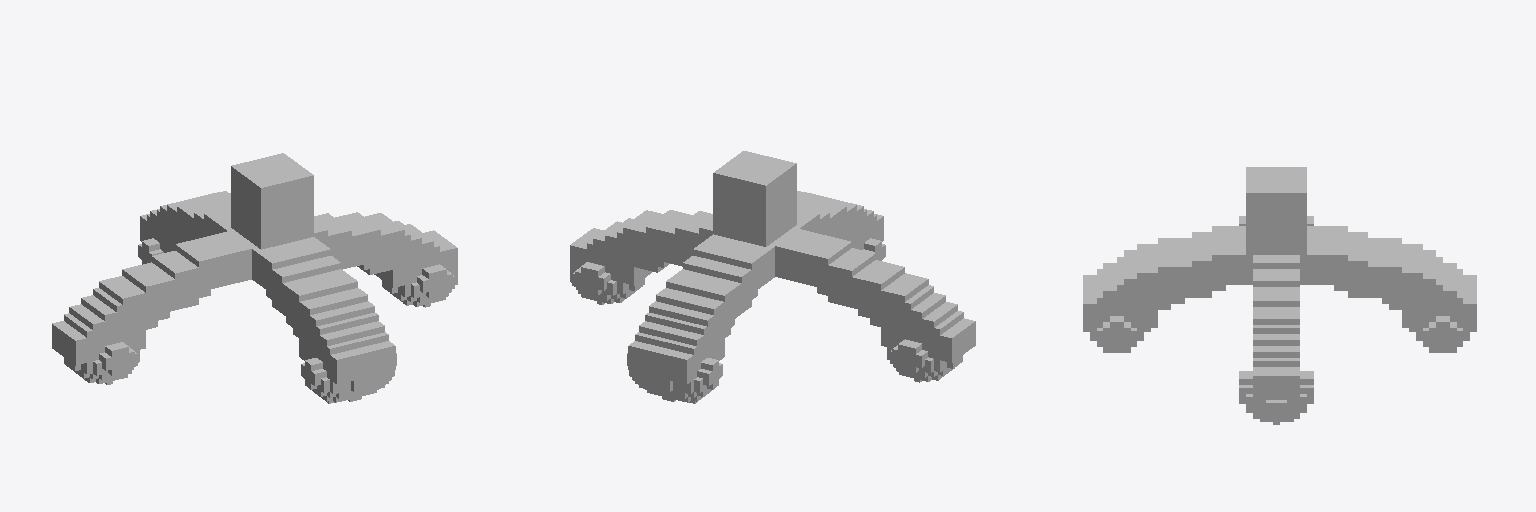
File: ruedas sillota.obj
3 views of the same model, side by side, from view 1: azimuth 30°, elevation 25°; view 2: azimuth 150°, elevation 25°; view 3: azimuth 270°, elevation 25° (orthographic).
Visible parts, largest first — view 1: object 1; view 2: object 1; view 3: object 1.
Part boxes in pixels (bbox=[...]): object 1: bbox=[52, 153, 457, 403]; object 1: bbox=[570, 151, 975, 403]; object 1: bbox=[1083, 167, 1476, 424].
Size of the model in its own units: 6.6 by 2.7 by 5.8.